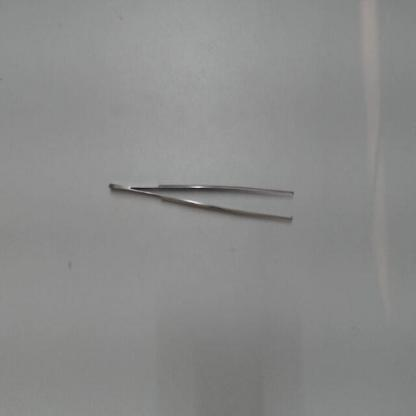Gillies Toothed Dissector: (98, 178, 300, 234)
